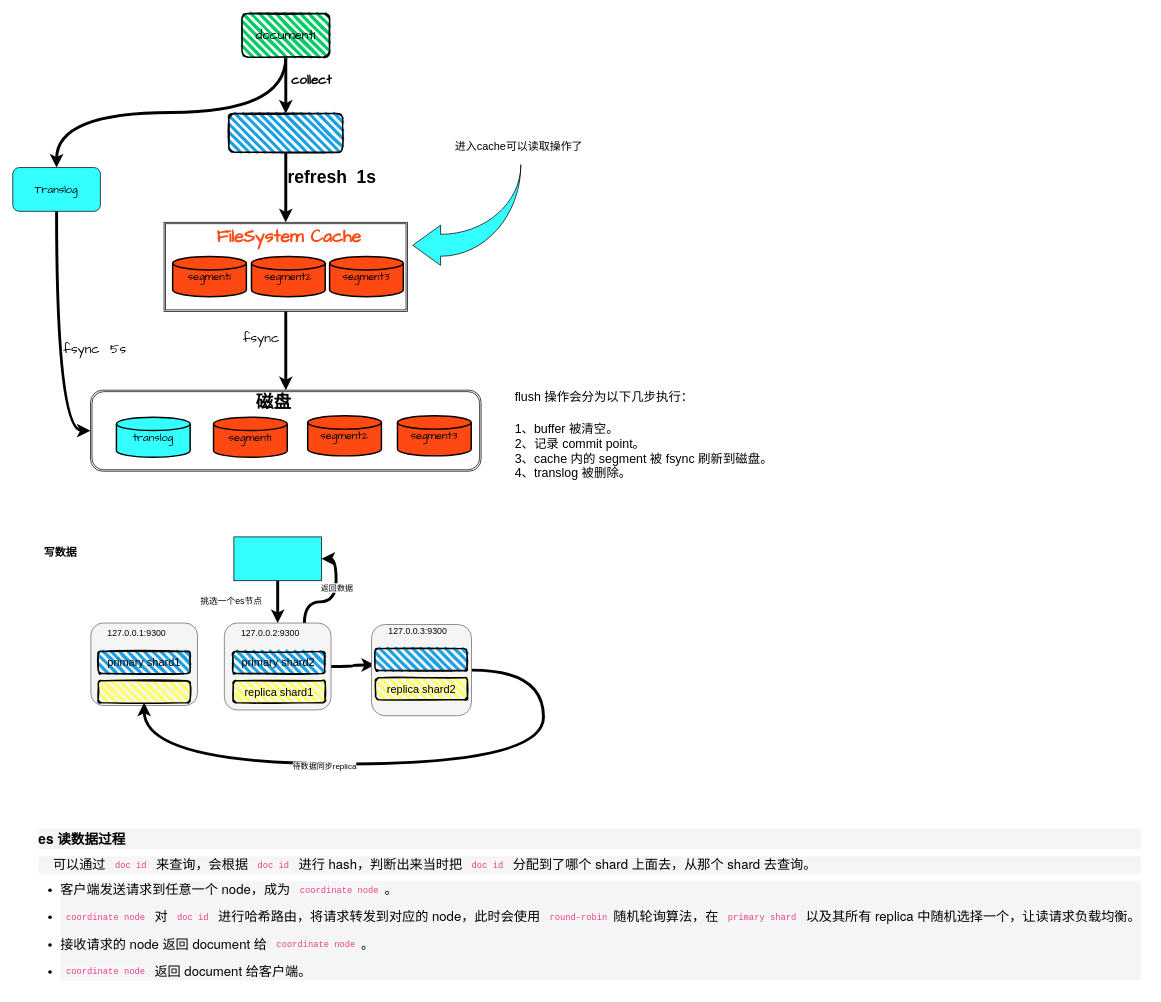
Some shapes in this 1161 by 1002 pixel diagram are drawn without their labels. Here are the shapes that lost their labels. From the top down, the centre of each, then its label:
At pixel 285 132: "In_MemeryBuffer".
At pixel 277 558: "client".
At pixel 420 659: "primary shard3".
At pixel 144 691: "replica shard3".
